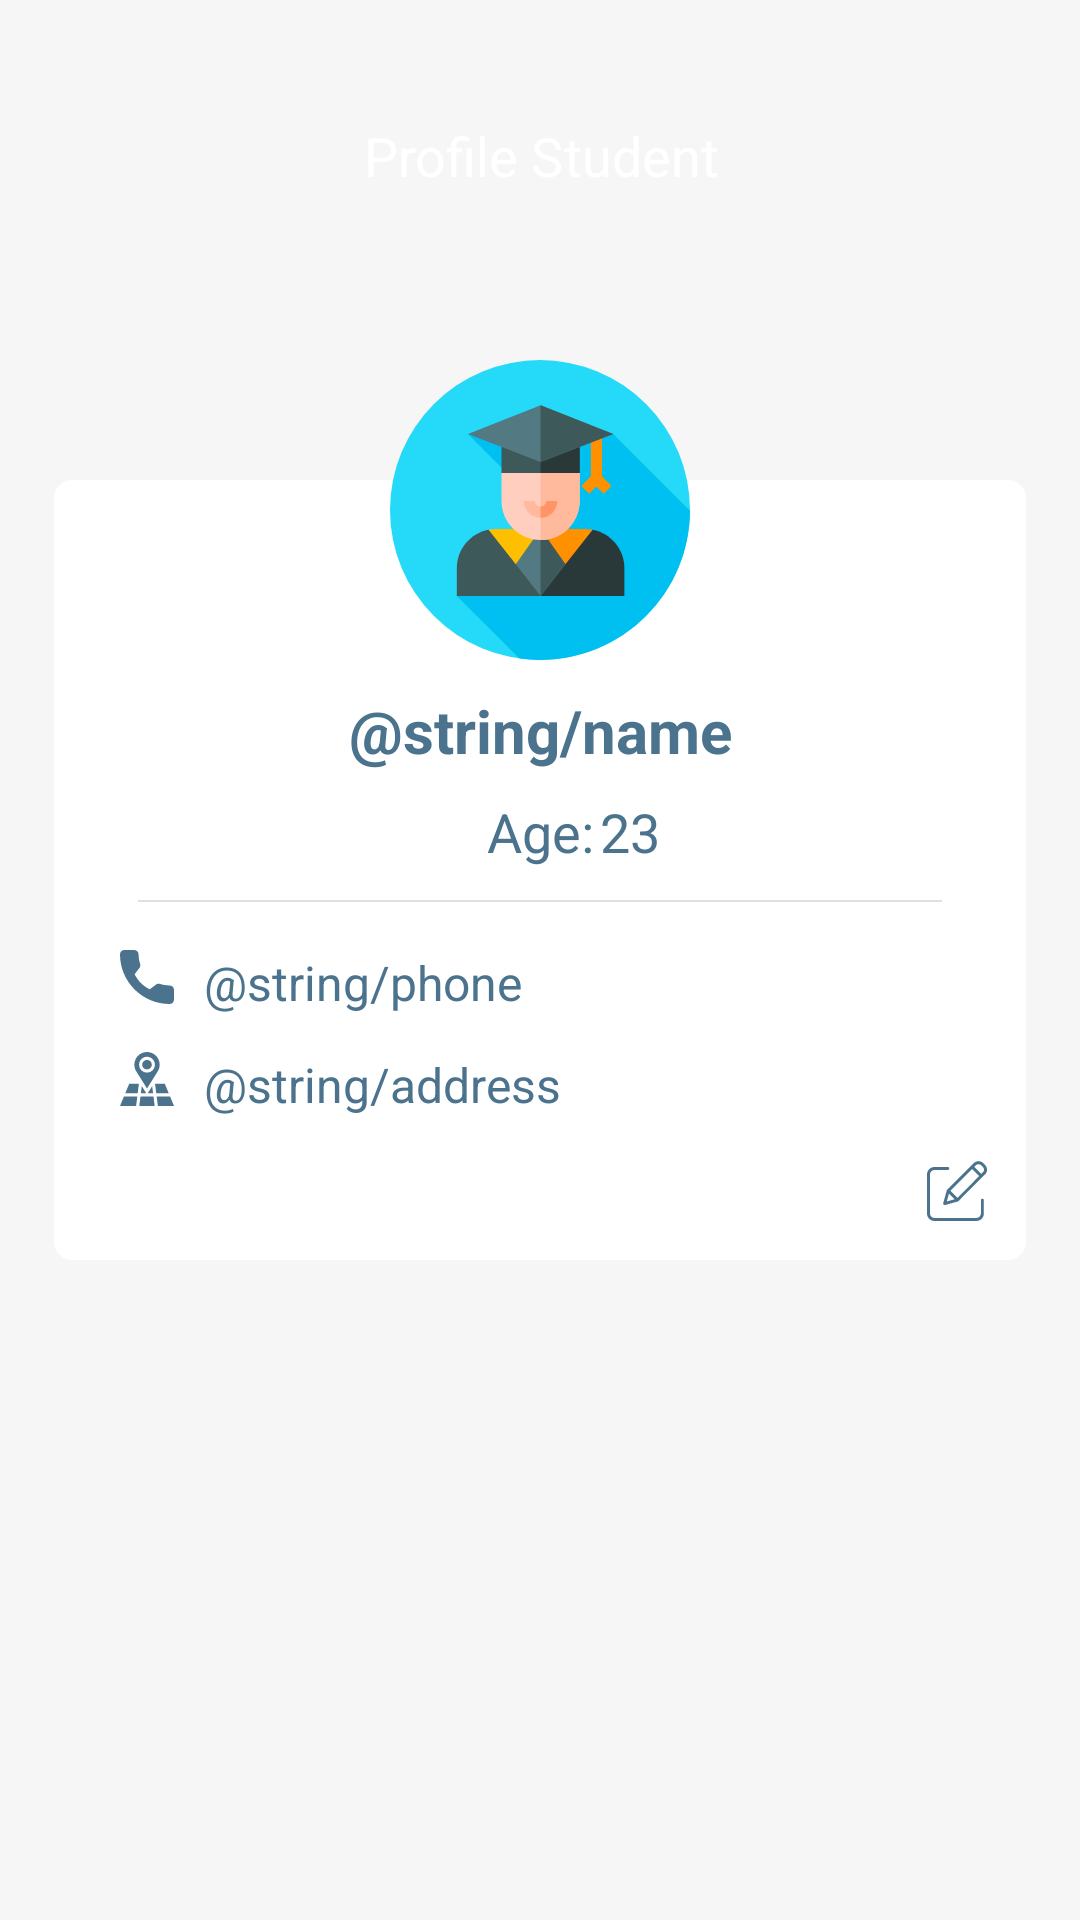

Icons on this 1080 x 1920 Android screen, each with the point to tap as (x=x, y=y):
edit: (x=957, y=1191)
student: (x=540, y=510)
